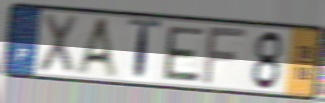8: (250, 27, 285, 93)
A: (73, 15, 121, 81)
E: (163, 24, 207, 84)
F: (199, 26, 250, 86)
T: (126, 16, 164, 85)
X: (36, 11, 82, 78)
